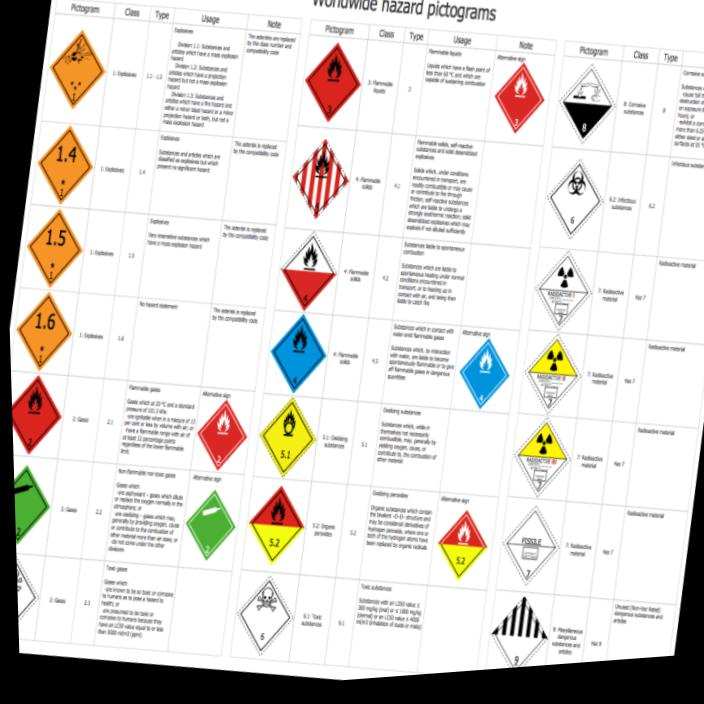bathroom sign: (50, 30, 104, 108), (27, 210, 81, 286), (16, 293, 70, 369), (38, 126, 91, 202)
bench: (194, 398, 249, 473), (12, 375, 60, 453)
building map: (183, 486, 237, 566), (14, 466, 48, 543)
camera: (17, 559, 36, 619)
can and bottle trash cans: (306, 43, 359, 120), (495, 64, 543, 130)
chair: (292, 140, 347, 217)
charging station: (280, 232, 335, 309)
clock: (271, 314, 325, 391), (459, 338, 509, 409)
defibrillator: (259, 398, 315, 475), (248, 486, 303, 563), (436, 510, 487, 580)
door: (237, 578, 291, 653)
doors: (544, 157, 605, 241)
doorway: (523, 333, 582, 415), (538, 252, 589, 328), (505, 506, 556, 582), (517, 422, 566, 494)
elevator buttons: (557, 62, 616, 146)
elevator doors: (489, 594, 548, 668)
